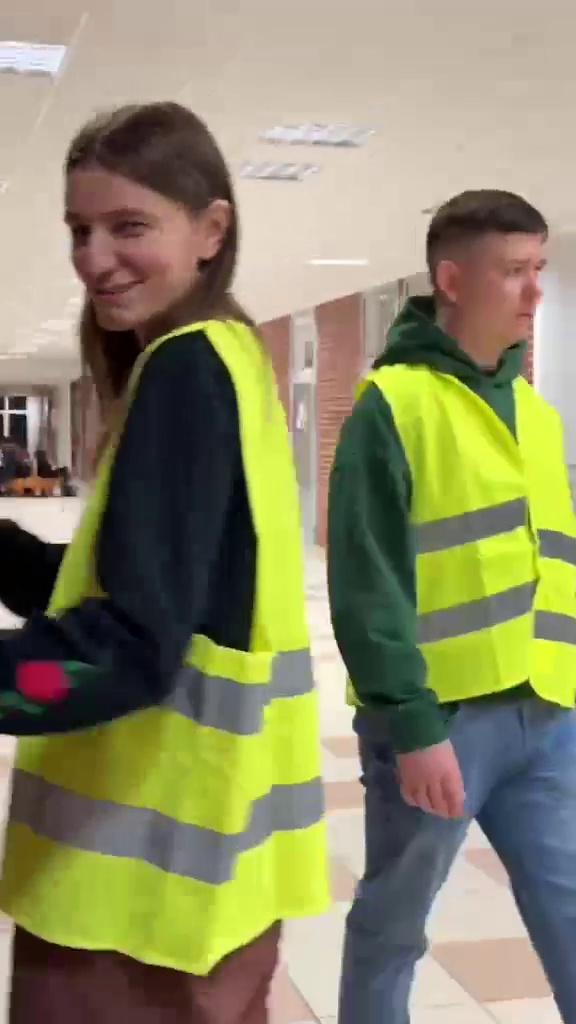vest: (3, 102, 316, 992), (347, 164, 576, 997)
